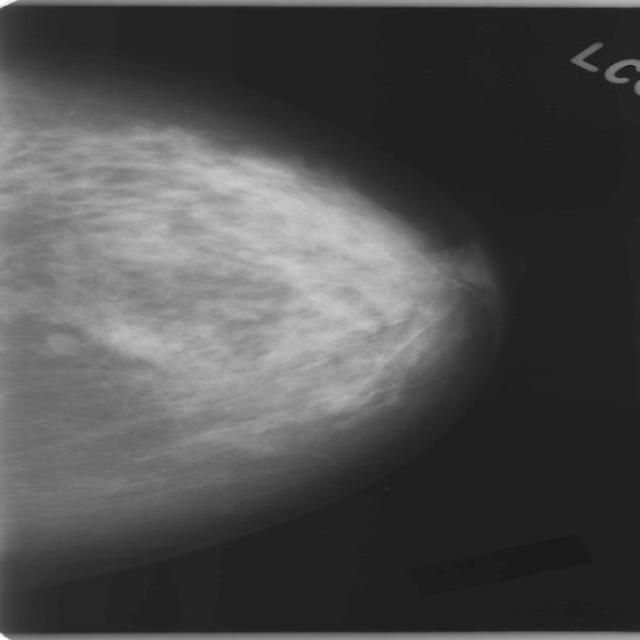tumour: (41, 330, 81, 355)
